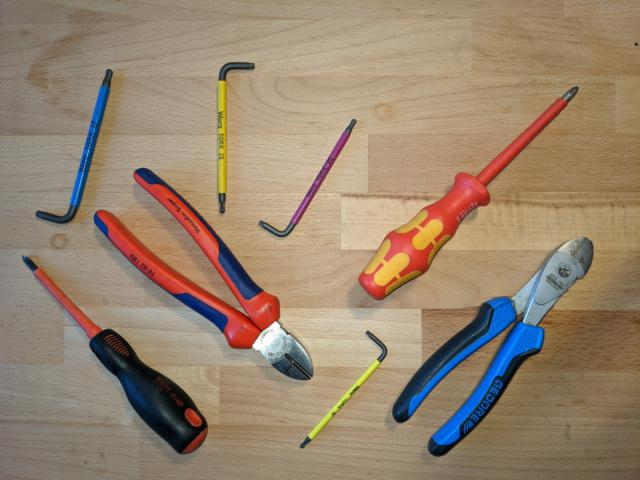Inbusschlüssel: (31, 64, 117, 227), (257, 116, 359, 240), (296, 329, 390, 452), (214, 60, 258, 217)
Schraubendreher: (356, 81, 583, 303), (18, 251, 212, 458)
Seitenschneider: (91, 164, 317, 385), (388, 233, 596, 461)
